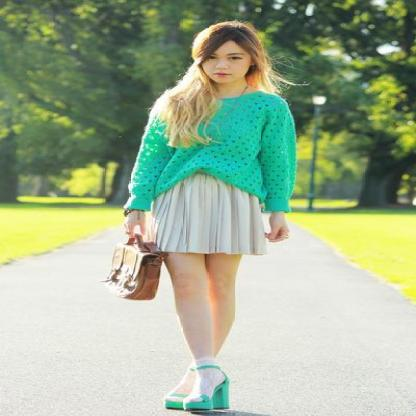bag: (100, 229, 172, 301)
jacket: (123, 92, 295, 212)
shoe: (165, 364, 228, 415)
skirt: (151, 168, 292, 255)
